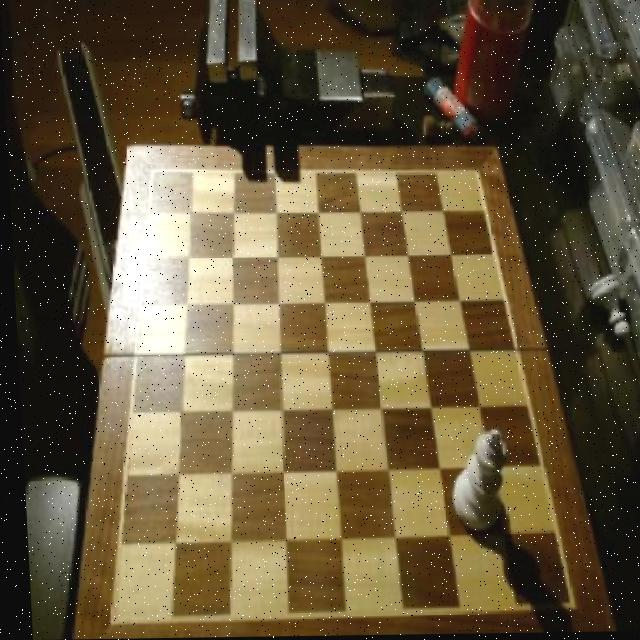white-bishop: (441, 428, 507, 536)
